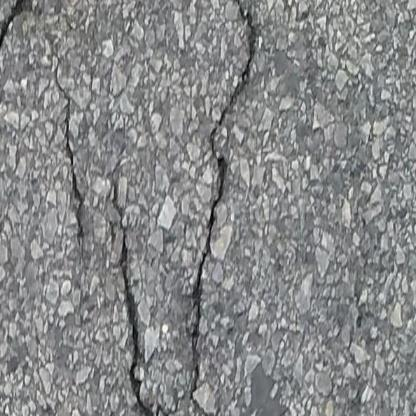Cracks: (109, 0, 262, 416), (51, 54, 90, 247), (0, 0, 38, 129)
